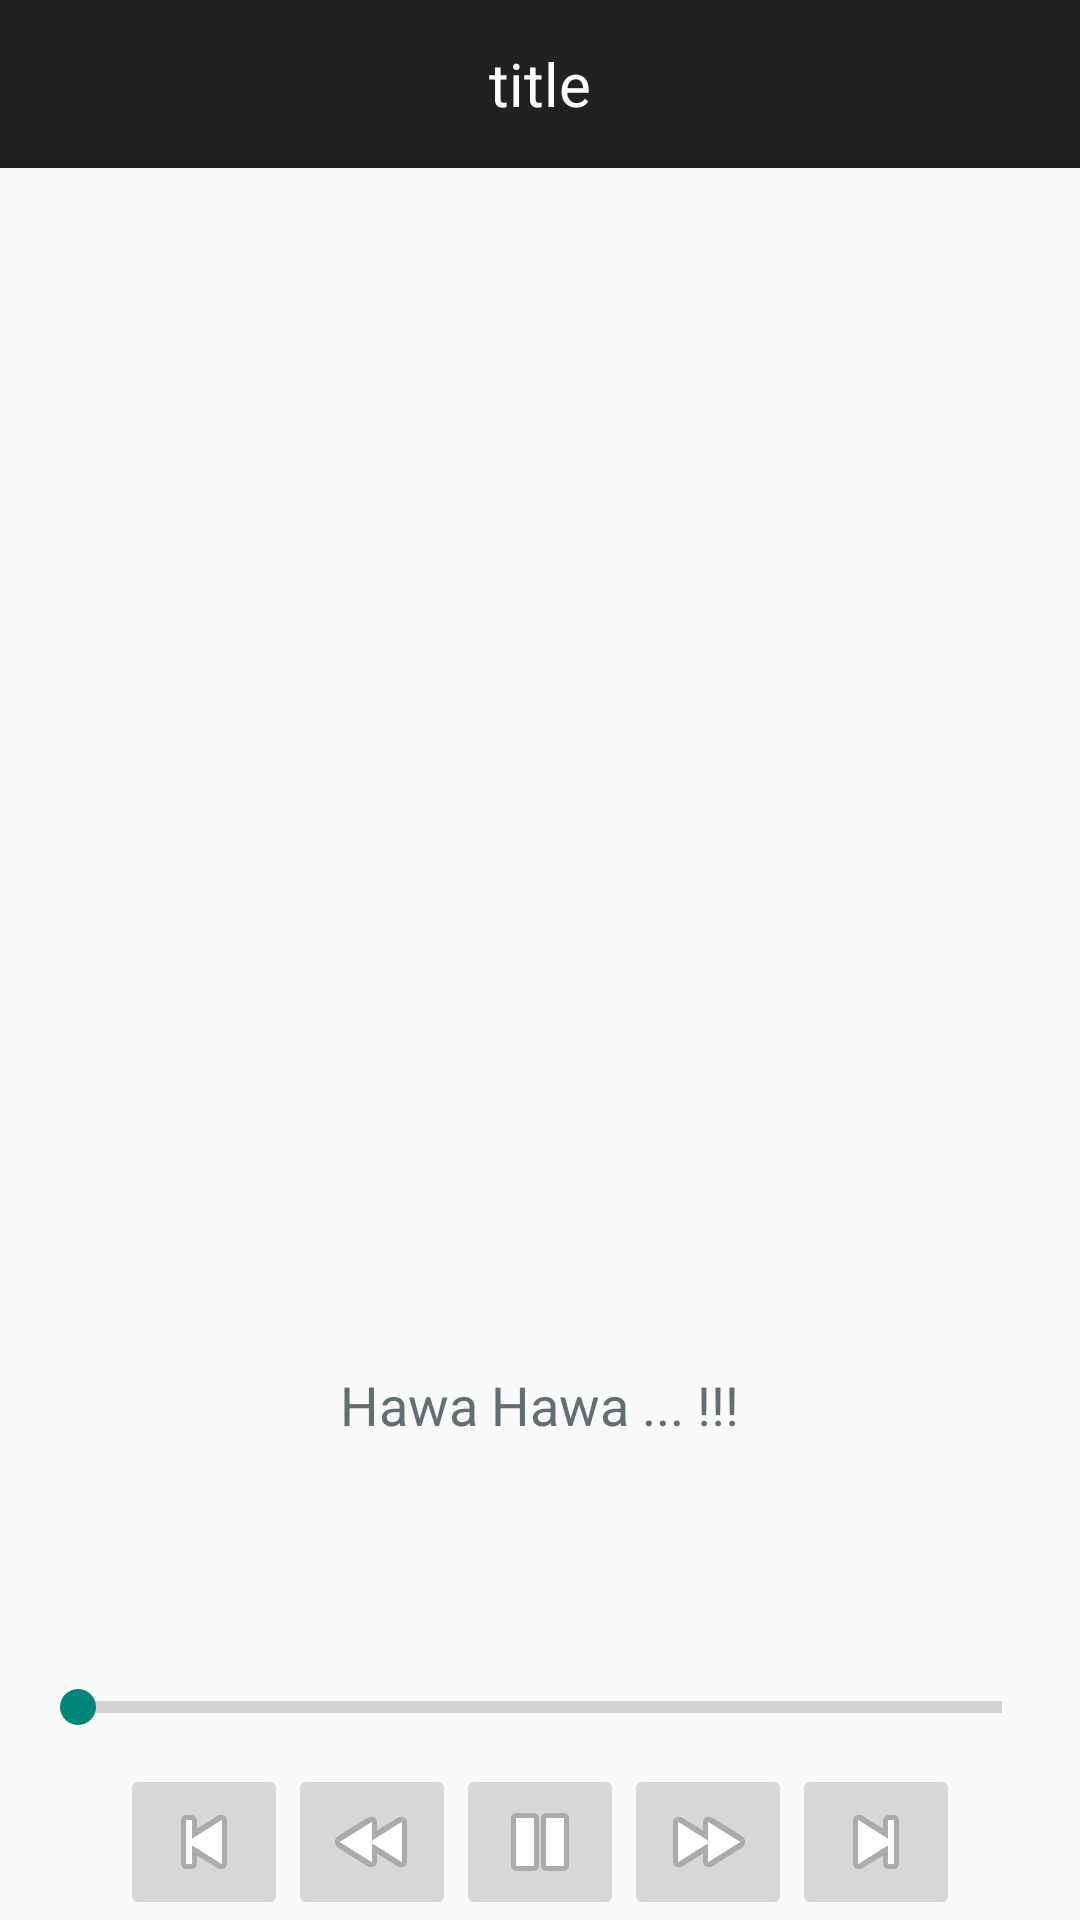

Named icons in this screenshot (1080px x 1920px) and their bounding boxes, rect(x1, y1, x2, y2):
next: rect(804, 1782, 948, 1902)
pause: rect(468, 1782, 612, 1902)
previous: rect(132, 1782, 276, 1902)
rew: rect(300, 1782, 444, 1902)
